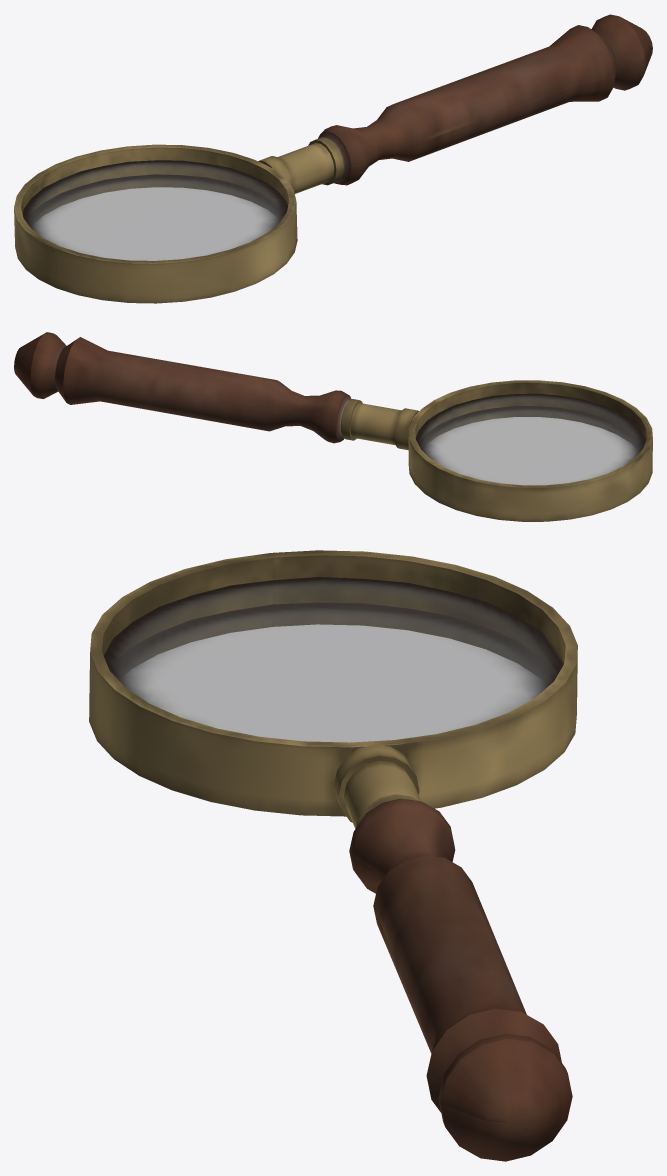
Rendered from magnifying-glass.glb.
3 renders of one model, top to bottom at view 1: azimuth 30°, elevation 25°; view 2: azimuth 150°, elevation 25°; view 3: azimuth 270°, elevation 25°, orthographic. The views are drawn at different scales.
Parts seen in each view (by area): view 1: magnifying-glass; view 2: magnifying-glass; view 3: magnifying-glass.
Boxes of the visible parts, x1,y1,x2,y2 form: magnifying-glass: (14,14,652,303); magnifying-glass: (14,332,652,521); magnifying-glass: (89,550,577,1161).
Size of the model in its own units: 0.1725 by 0.018 by 0.0634.
Materials: 1 (1 with a texture image).
